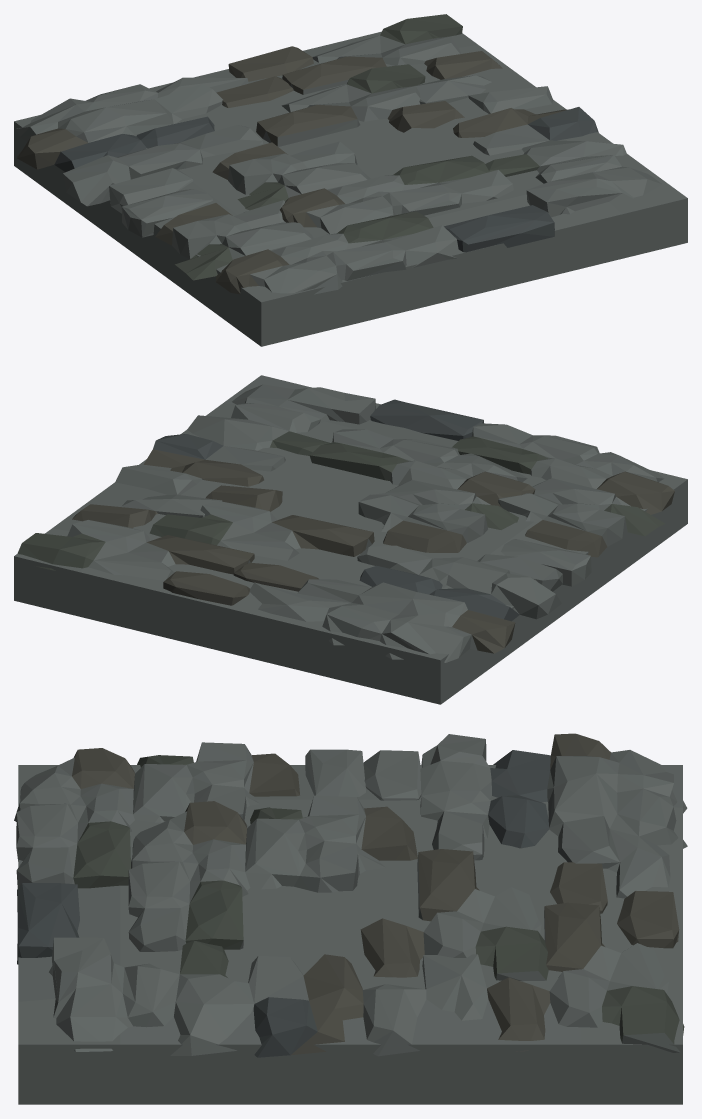
Rendered from MCastle_Cobbles_01.FBX.
The picture shows the model from 3 angles, top to bottom: view 1: azimuth 30°, elevation 25°; view 2: azimuth 150°, elevation 25°; view 3: azimuth 270°, elevation 25°; orthographic projection. The views are drawn at different scales.
Parts seen in each view (by area): view 1: MCastle_Cobbles_01_LOD0; view 2: MCastle_Cobbles_01_LOD0; view 3: MCastle_Cobbles_01_LOD0.
Boxes of the visible parts, x1,y1,x2,y2 form: MCastle_Cobbles_01_LOD0: (14,14,687,346); MCastle_Cobbles_01_LOD0: (14,375,687,704); MCastle_Cobbles_01_LOD0: (14,733,687,1104).
Size of what is drawn, in the model's own units: 4.29 by 0.6127 by 4.05.
